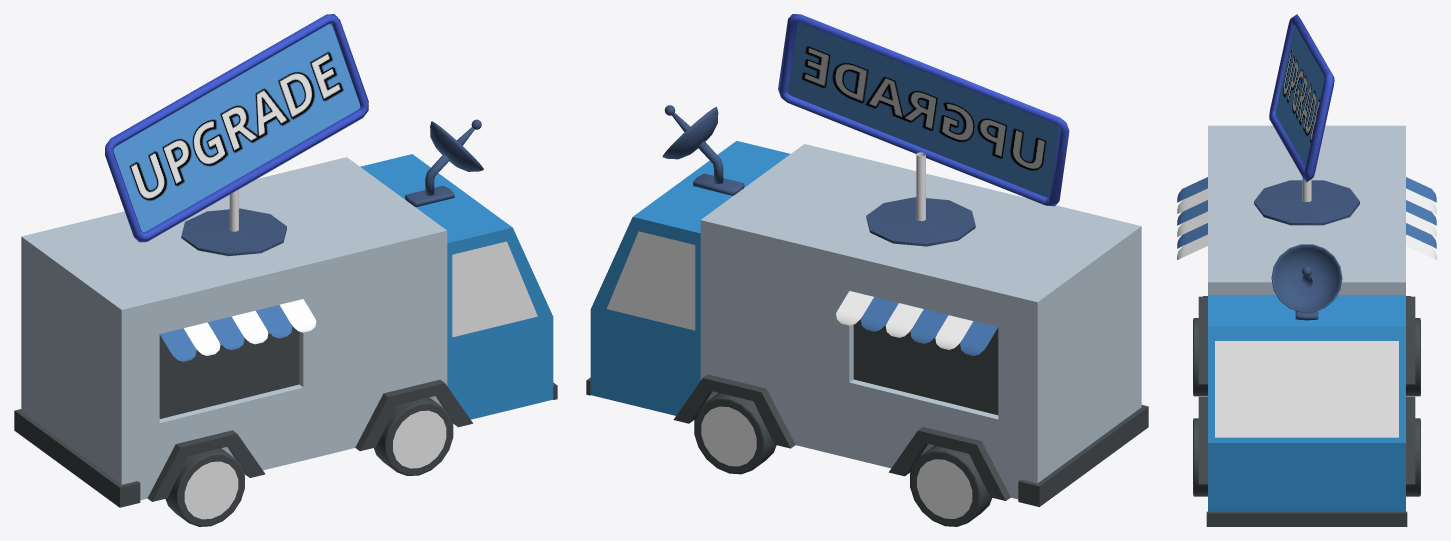
Rendered from Car Staff.fbx.
3 renders of one model, left to right at view 1: azimuth 30°, elevation 25°; view 2: azimuth 150°, elevation 25°; view 3: azimuth 270°, elevation 25°, orthographic. The views are drawn at different scales.
Parts seen in each view (by area): view 1: Car Staff, Upgrade, Staff Wheels; view 2: Car Staff, Upgrade, Staff Wheels; view 3: Car Staff, Upgrade, Staff Wheels.
Boxes of the visible parts, <box> form: Car Staff: <box>14,119,557,507</box>; Upgrade: <box>105,14,368,256</box>; Staff Wheels: <box>165,397,453,526</box>; Car Staff: <box>586,105,1148,506</box>; Upgrade: <box>778,14,1069,246</box>; Staff Wheels: <box>694,393,991,526</box>; Car Staff: <box>1177,125,1436,526</box>; Upgrade: <box>1254,14,1359,225</box>; Staff Wheels: <box>1193,318,1420,496</box>.
Bounding box in the file's own units: 5.05 × 4.57 × 2.62.
